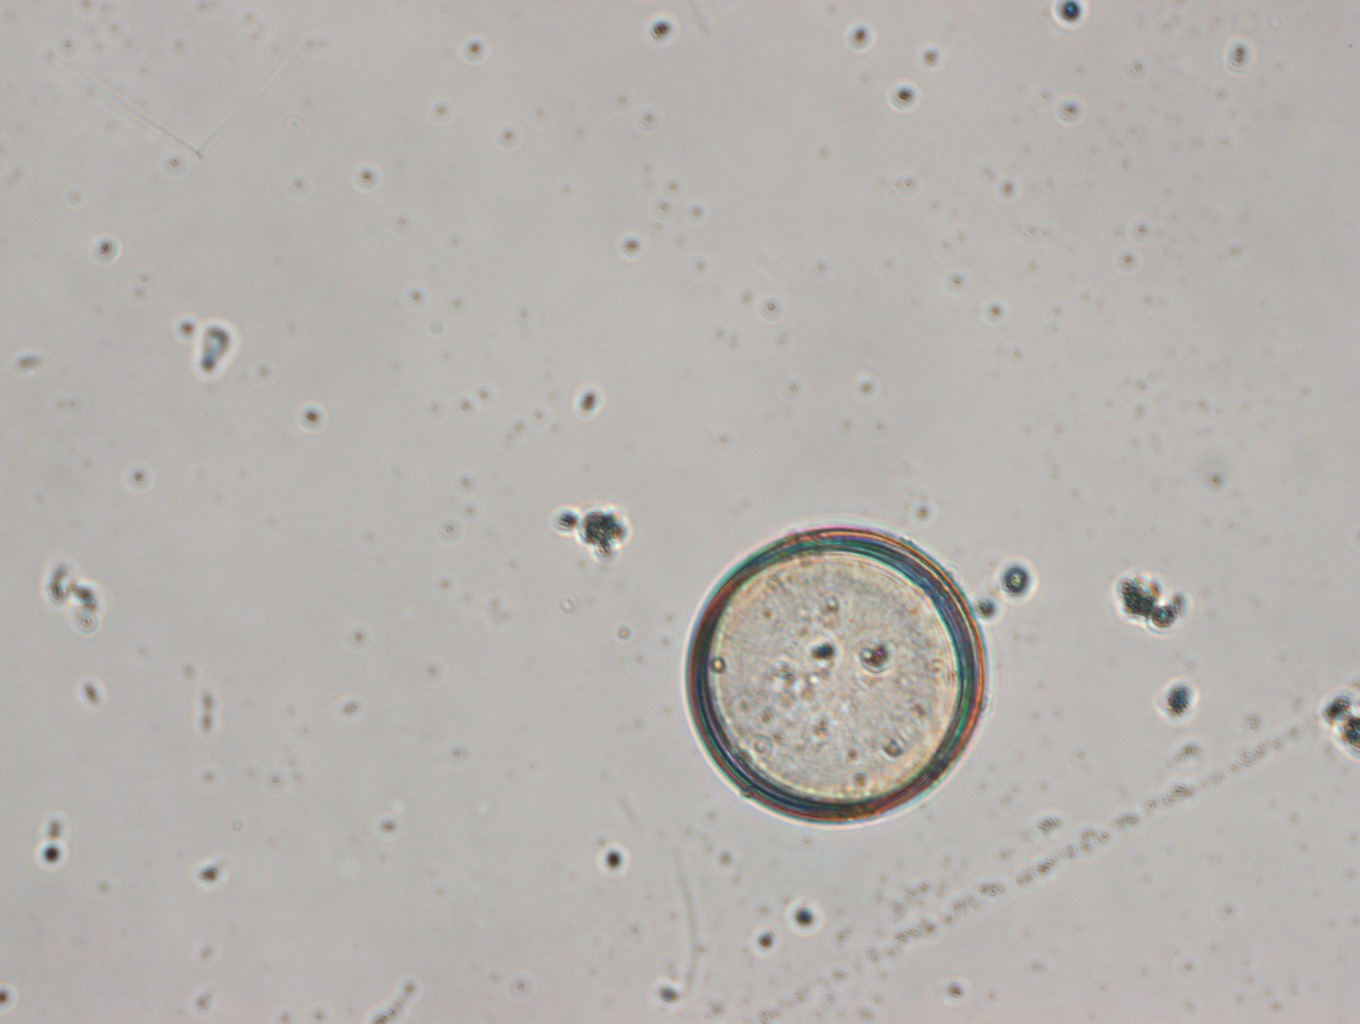coscinodiscus: (684, 522, 988, 826)
